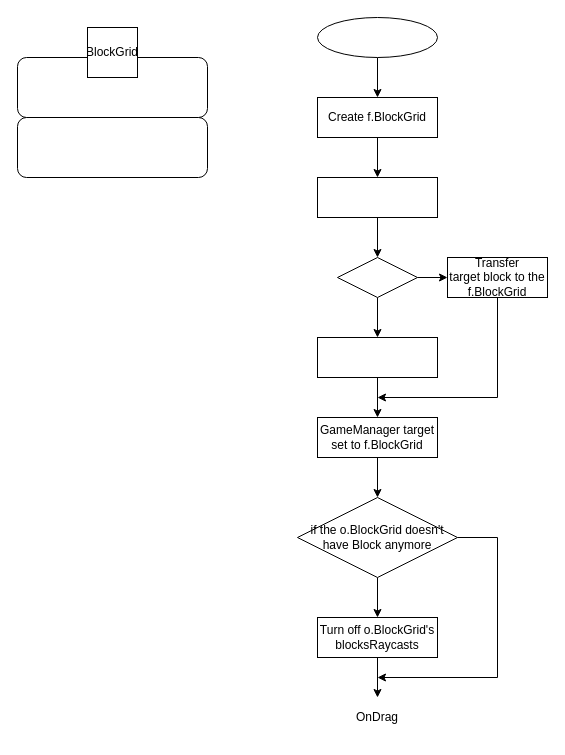
The diagram is 565 pixels wide and 755 high, and some of its shapes have lost their labels. The centre of each missing label's shape, as x and y in pixels:
"Create PlaceHolder" goes at (x=377, y=197).
"If hold" goes at (x=377, y=277).
"OnBeginDrag" goes at (x=377, y=37).
"Transfer All block from o.BlockGrid to the f.BlockGrid" goes at (x=377, y=357).
